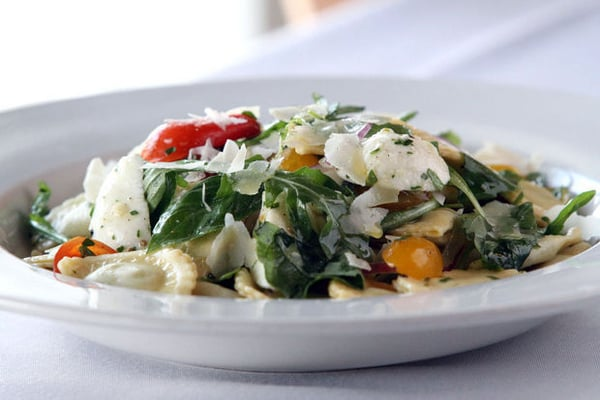sushi: (0, 71, 599, 374)
